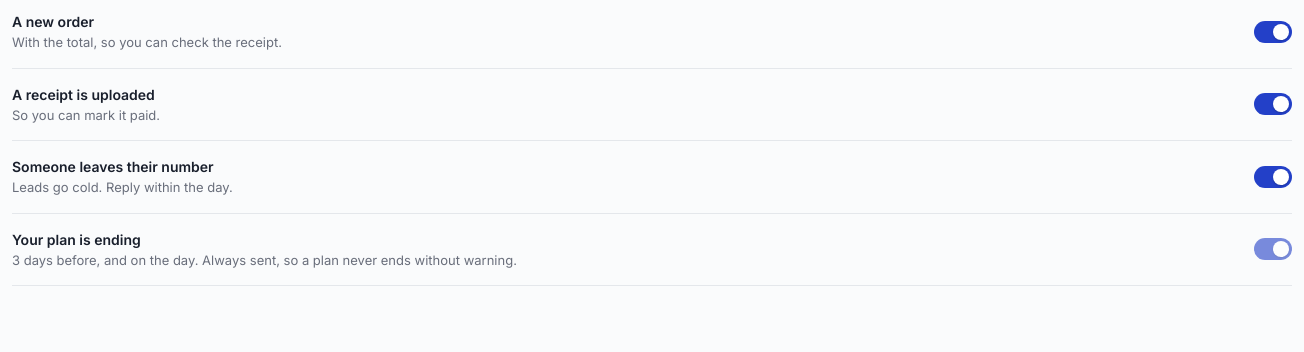
it: NotifyForm › puts the switch back, and says why under its own row, when the change could not be saved
Click the switch named "Email me when a new order comes in": (1273, 32) [1254, 21, 1292, 43]
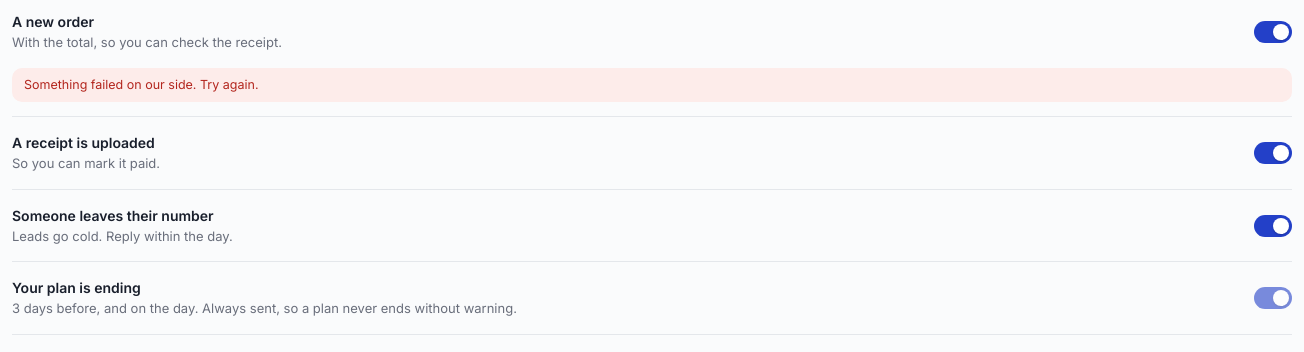
Result: the message shows "Something failed" at [24, 76, 258, 92]
